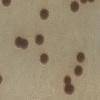brown: (16, 38, 30, 50), (33, 32, 45, 46), (74, 50, 86, 64), (72, 64, 84, 77), (12, 35, 23, 49), (39, 52, 50, 66), (62, 84, 76, 95), (61, 74, 73, 85), (69, 1, 80, 13), (38, 13, 50, 22), (0, 0, 13, 8), (38, 7, 50, 15), (77, 0, 88, 5), (0, 73, 4, 86), (87, 0, 96, 4)
